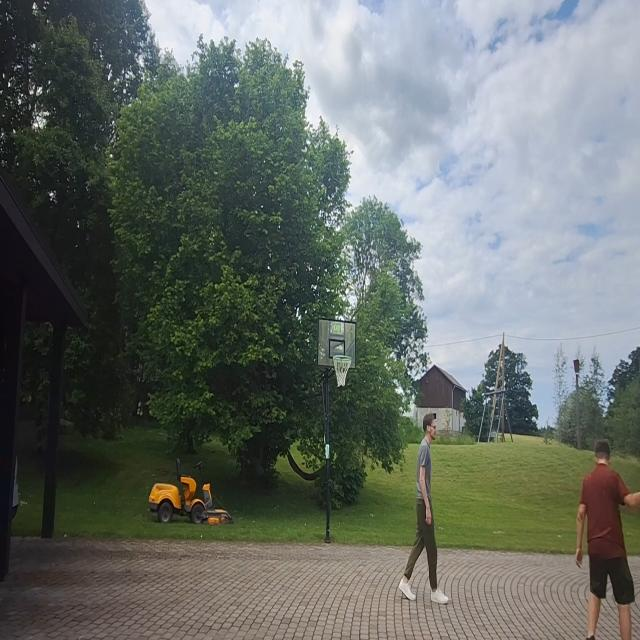basket: (333, 353, 352, 389)
player: (570, 435, 639, 640), (399, 412, 450, 607)
